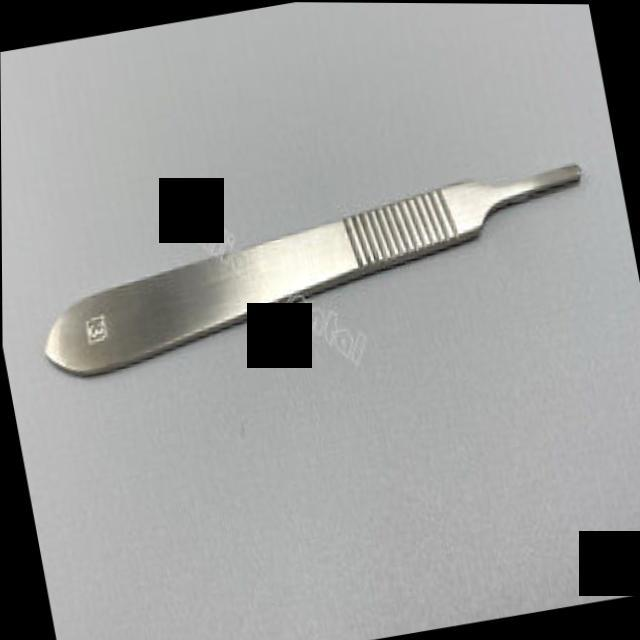Surgical blade: (22, 142, 612, 388)
